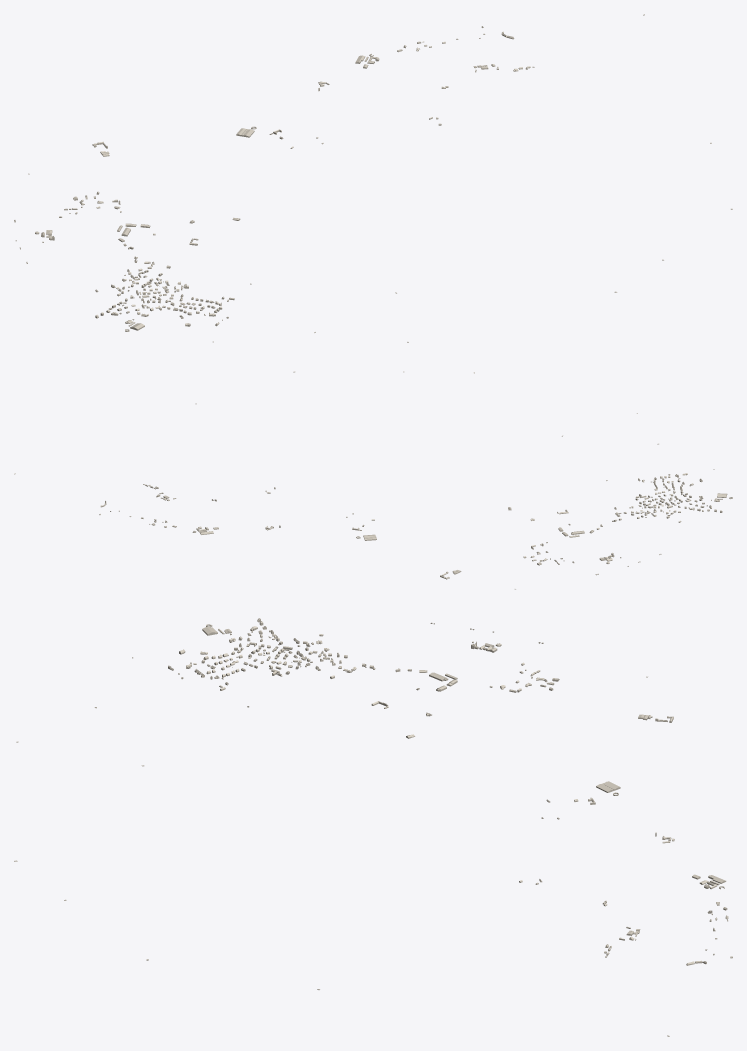
3 views of the same model, one above another, from view 1: azimuth 30°, elevation 25°; view 2: azimuth 150°, elevation 25°; view 3: azimuth 270°, elevation 25° (orthographic). The views are drawn at different scales.
Bounding box in the file's own units: 3265 × 51.51 × 2384.
